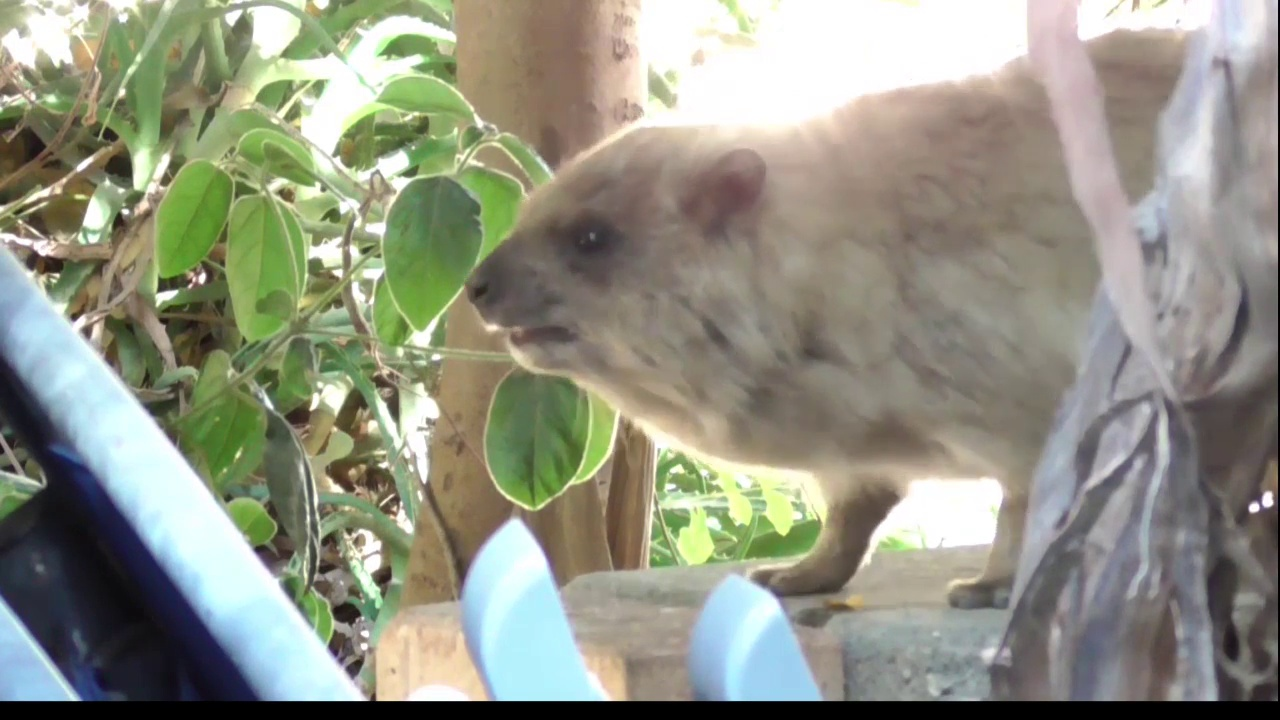Rock Hyrex: (464, 26, 1201, 615)
